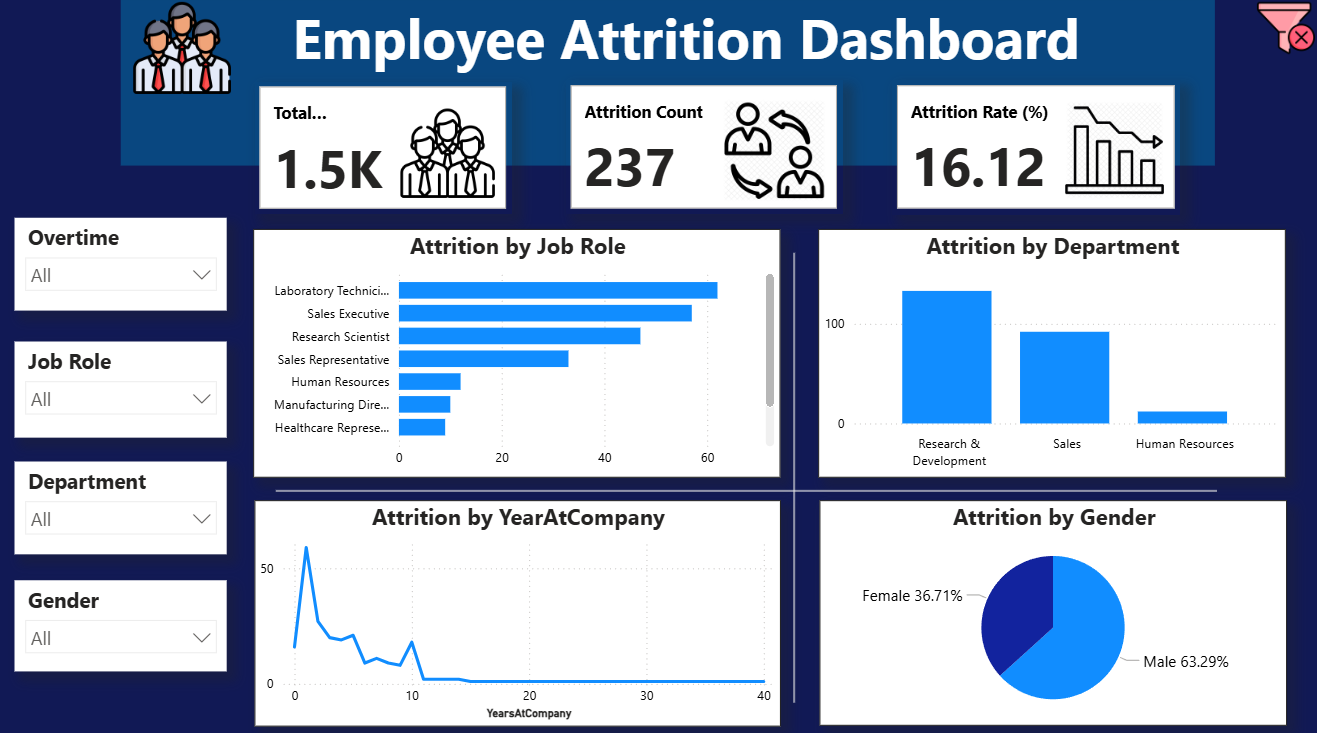

The page's visual inventory and layout, read from the dashboard file:
{"tool":"powerbi","page":{"name":"Attrition Overview","canvas":[1280,720],"ordinal":0},"visuals":[{"type":"textbox","box":[119.7,0,1056.1,165.9],"z":0},{"type":"image","box":[119.7,0,118.3,103.9],"z":1000},{"type":"cardVisual","fields":{"Data":["Sum(WA_Fn-UseC_-HR-Employee-Attrition.EmployeeCount)"]},"box":[248.5,84.5,249.7,131.5],"z":2000},{"type":"cardVisual","fields":{"Data":["WA_Fn-UseC_-HR-Employee-Attrition.Attrition Count"]},"box":[548.9,83.2,267.8,129.1],"z":3000},{"type":"cardVisual","fields":{"Data":["WA_Fn-UseC_-HR-Employee-Attrition.Attrition Rate (%)"]},"box":[848.1,83.2,278.7,129.1],"z":4000},{"type":"slicer","title":"Gender","fields":{"Values":["WA_Fn-UseC_-HR-Employee-Attrition.Gender"]},"box":[16.9,565.8,205.1,88.1],"z":5000},{"type":"slicer","title":"Gender","fields":{"Values":["WA_Fn-UseC_-HR-Employee-Attrition.Department"]},"box":[16.9,451.2,205.1,89.3],"z":6000},{"type":"slicer","title":"Gender","fields":{"Values":["WA_Fn-UseC_-HR-Employee-Attrition.OverTime"]},"box":[16.9,216,205.1,89.3],"z":7000},{"type":"columnChart","title":"Attrition by Department","fields":{"Category":["WA_Fn-UseC_-HR-Employee-Attrition.Department"],"Y":["CountNonNull(WA_Fn-UseC_-HR-Employee-Attrition.Attrition)"]},"box":[792.6,226.8,451.2,240.1],"z":8000},{"type":"barChart","title":"Attrition by Job Role","fields":{"Category":["WA_Fn-UseC_-HR-Employee-Attrition.JobRole"],"Y":["CountNonNull(WA_Fn-UseC_-HR-Employee-Attrition.Attrition)"]},"box":[247.3,226.8,509.1,240.1],"z":9000},{"type":"pieChart","title":"Attrition by OverTime","fields":{"Y":["CountNonNull(WA_Fn-UseC_-HR-Employee-Attrition.Attrition)"],"Category":["WA_Fn-UseC_-HR-Employee-Attrition.OverTime"]},"box":[793.5,489.1,451.6,217.9],"z":10000},{"type":"lineChart","title":"Attrition by YearAtCompany","fields":{"Category":["WA_Fn-UseC_-HR-Employee-Attrition.YearsAtCompany"],"Y":["CountNonNull(WA_Fn-UseC_-HR-Employee-Attrition.Attrition)"]},"box":[248.5,488.6,507.9,218.4],"z":11000},{"type":"slicer","title":"Gender","fields":{"Values":["WA_Fn-UseC_-HR-Employee-Attrition.JobRole"]},"box":[16.9,335.4,205.1,92.9],"z":12000},{"type":"shape","box":[269,451.2,908.4,56.7],"z":13000},{"type":"shape","box":[745.9,249.6,47.6,434.3],"z":14000}]}

Visuals, with their boxes in screenshot pixels (x1, y1, x2, y2), scaled from the page's 1280x720 canvas onto the 1317x733 screenshot:
textbox: [123,0,1210,169]
image: [123,0,245,106]
cardVisual - Sum(WA_Fn-UseC_-HR-Employee-Attrition.EmployeeCount): [256,86,513,220]
cardVisual - WA_Fn-UseC_-HR-Employee-Attrition.Attrition Count: [565,85,840,216]
cardVisual - WA_Fn-UseC_-HR-Employee-Attrition.Attrition Rate (%): [873,85,1159,216]
"Gender" slicer: [17,576,228,666]
"Gender" slicer: [17,459,228,550]
"Gender" slicer: [17,220,228,311]
"Attrition by Department" columnChart: [816,231,1280,475]
"Attrition by Job Role" barChart: [254,231,778,475]
"Attrition by OverTime" pieChart: [816,498,1281,720]
"Attrition by YearAtCompany" lineChart: [256,497,778,720]
"Gender" slicer: [17,341,228,436]
shape: [277,459,1211,517]
shape: [767,254,816,696]
